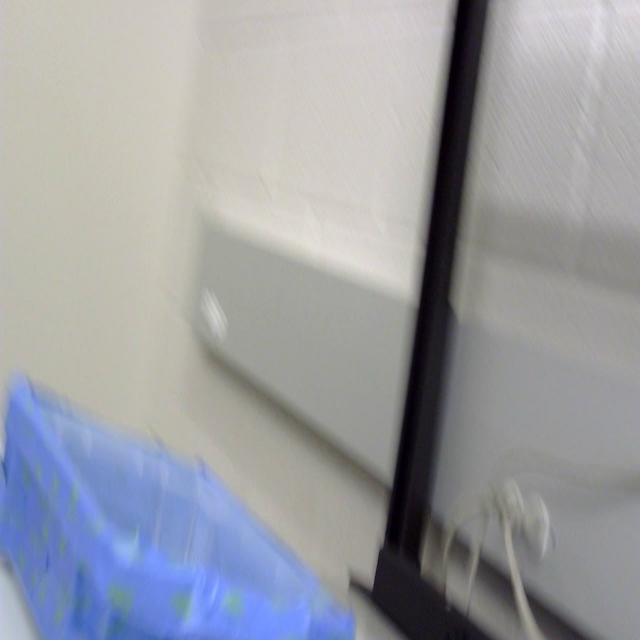bucket: (0, 370, 356, 640)
